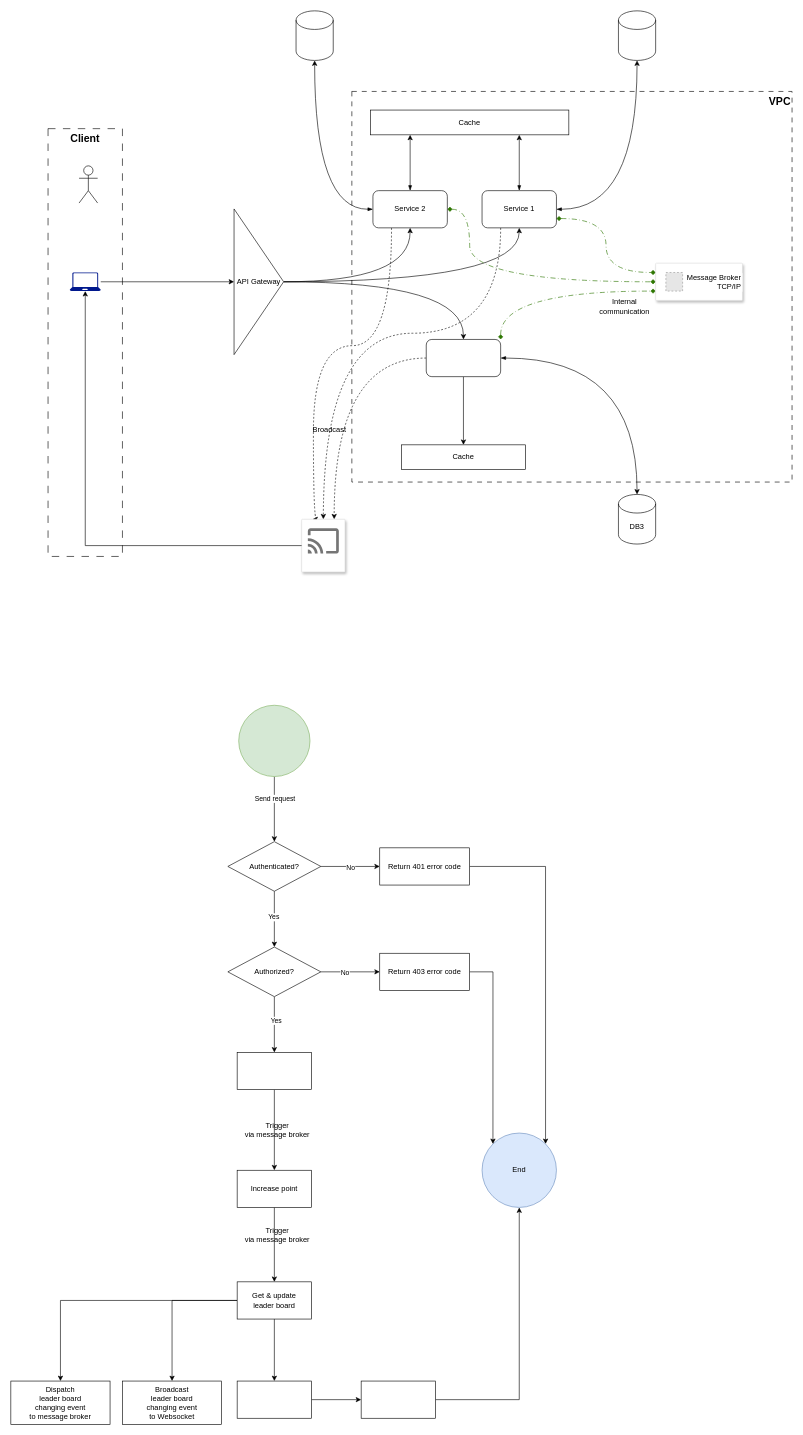
Some shapes in this 803 by 1435 pixel diagram are drawn without their labels. Grey dashed boxes stand in for pictures. The centre of each missing label's shape, as x and y in pixels:
Cache leader board: (274,1399)
DB1: (314,35)
DB2: (637,35)
Do action: (274,1071)
Return 200 code Successful response: (398,1399)
Service 3: (463,358)
Start: (274,741)
User: (88,184)
Websocket: (324,546)
